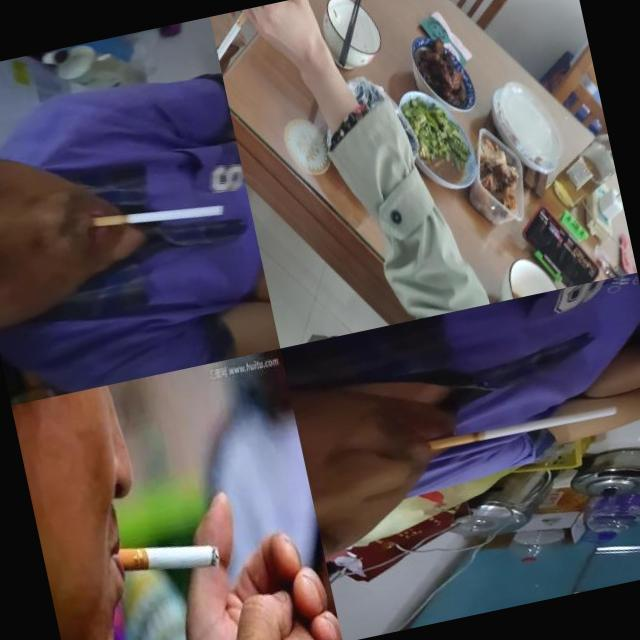smoke: (427, 401, 618, 454), (87, 188, 228, 244), (112, 528, 222, 588), (210, 8, 260, 67)
